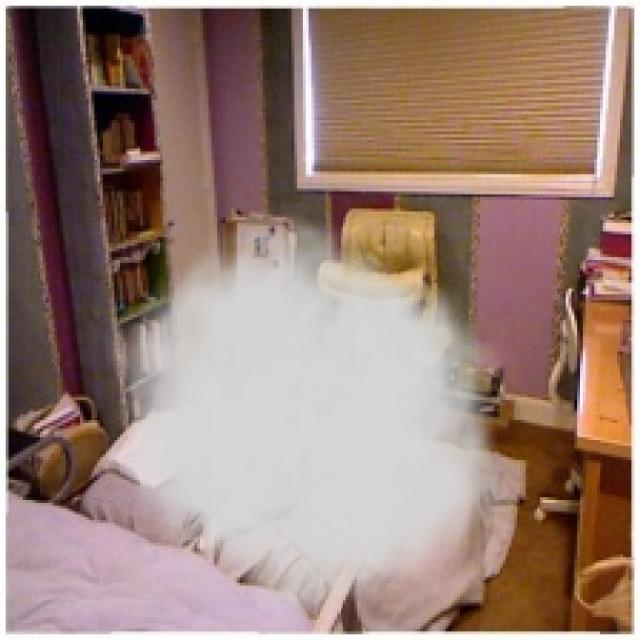smoke: (106, 203, 520, 628)
